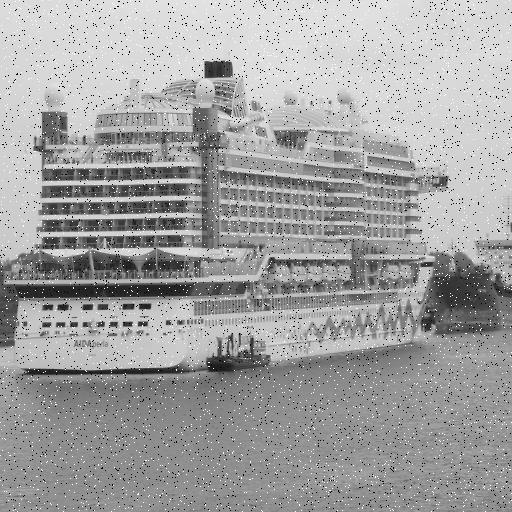cruises: (2, 32, 451, 375)
